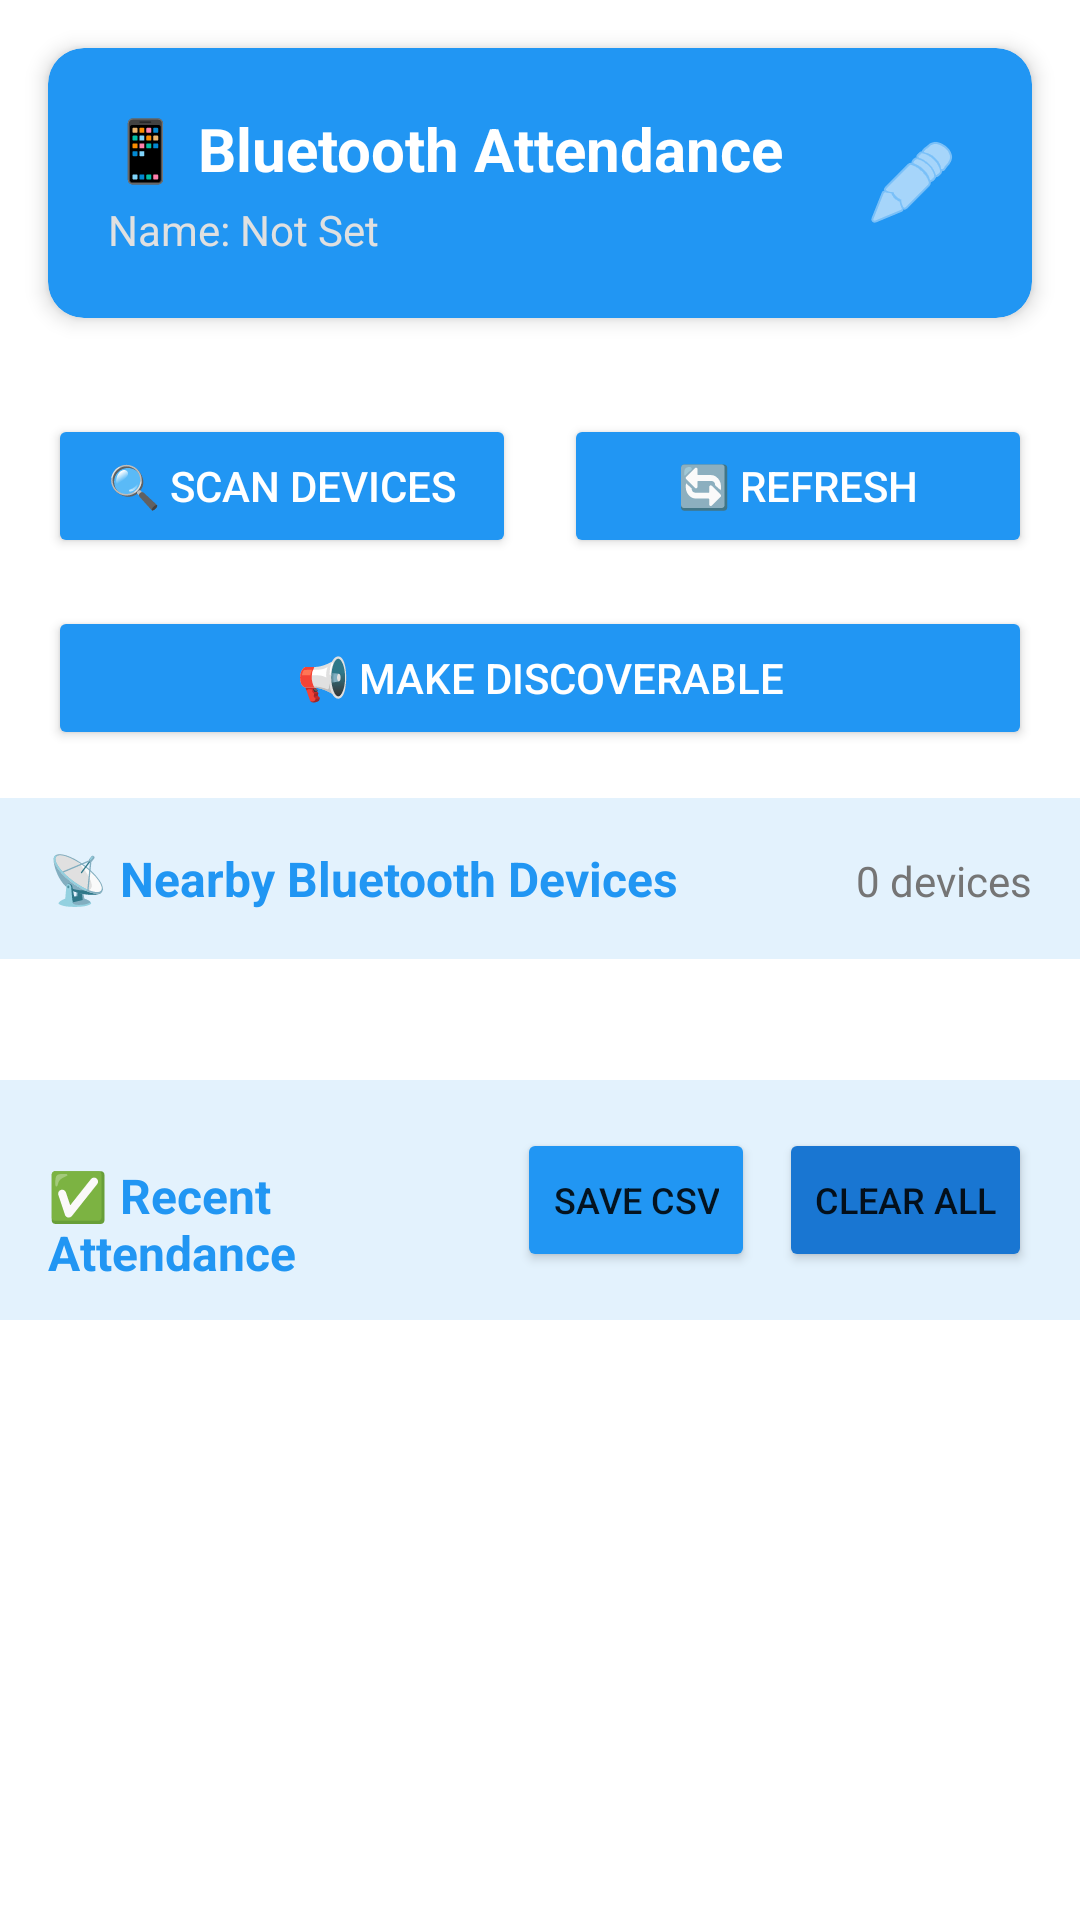

Screen size 1080px x 1920px. Icon name, then its center in pixels as [x,y]:
Edit Name: [911,182]
